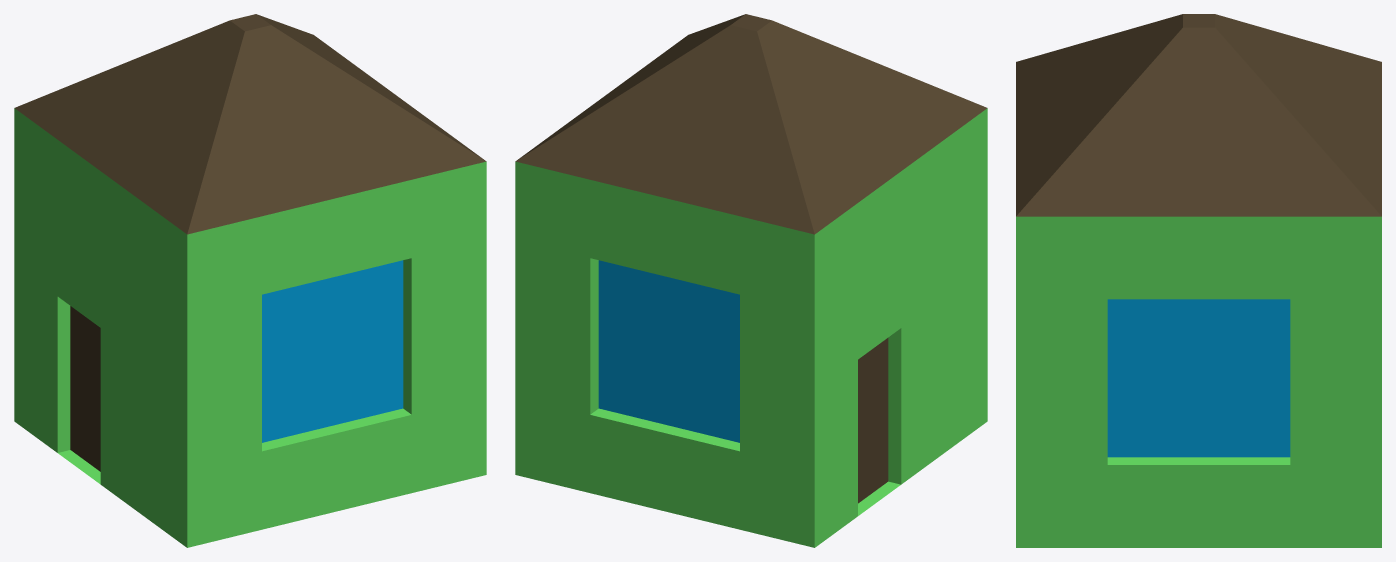
The model's file is Building_D.fbx.
The picture shows the model from 3 angles, left to right: view 1: azimuth 30°, elevation 25°; view 2: azimuth 150°, elevation 25°; view 3: azimuth 270°, elevation 25°; orthographic projection. The views are drawn at different scales.
Visible parts, largest first — view 1: Plane; view 2: Plane; view 3: Plane.
Boxes of the visible parts, bbox=[...] form: Plane: bbox=[14, 14, 486, 547]; Plane: bbox=[515, 14, 987, 547]; Plane: bbox=[1016, 14, 1381, 547].
Size of the model in its own units: 100 by 136 by 100.
